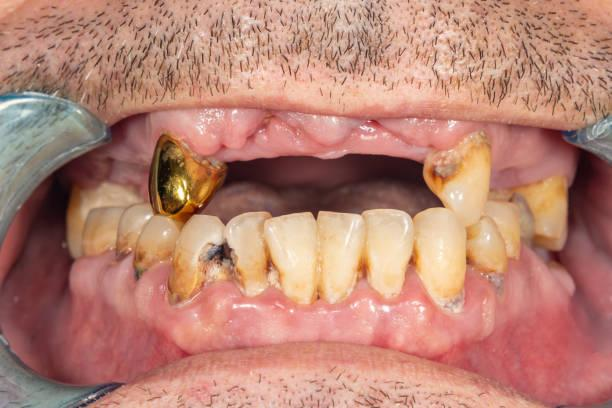Calculus: (406, 204, 484, 312), (419, 129, 503, 224), (500, 164, 580, 248), (261, 203, 324, 303), (159, 218, 234, 298), (356, 206, 422, 296), (120, 198, 183, 278), (228, 202, 278, 291), (71, 203, 138, 260)
Discoloration: (484, 182, 542, 251)
